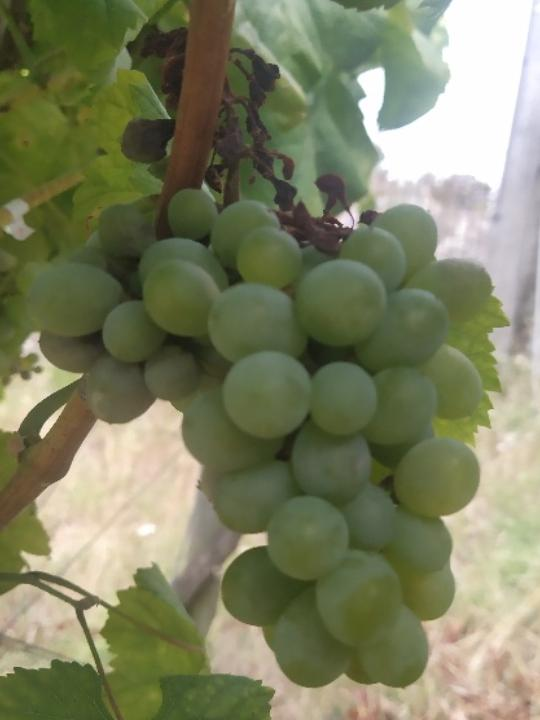grape: (21, 21, 498, 690)
